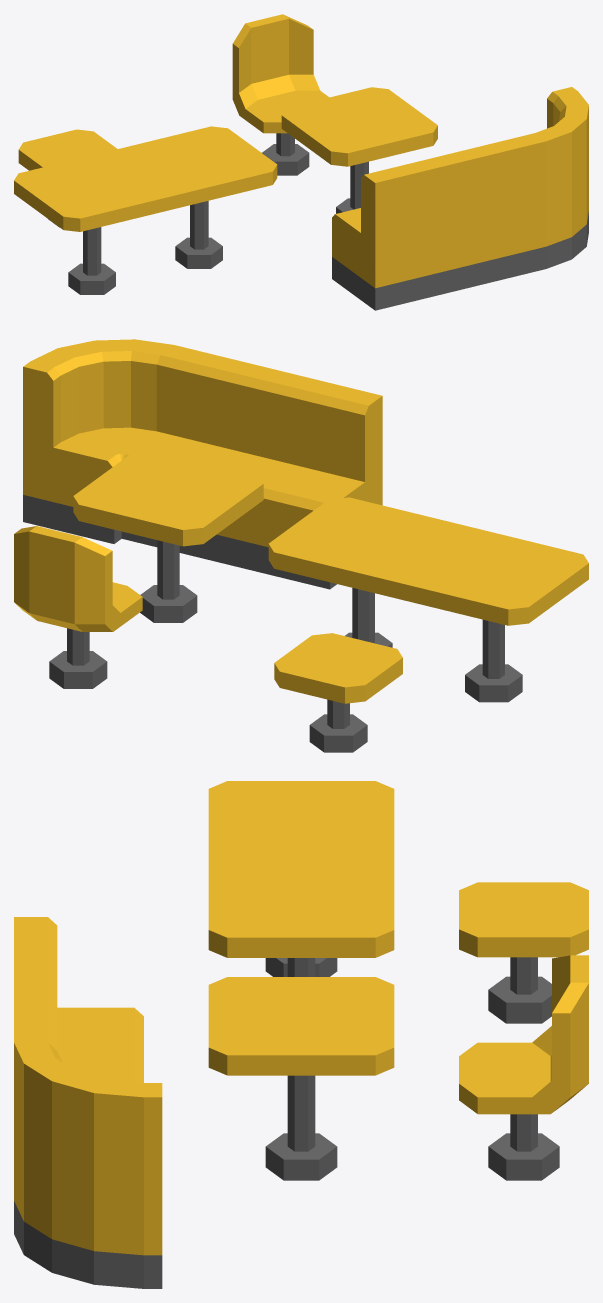
File: Seating02.fbx
3 views of the same model, one above another, from view 1: azimuth 30°, elevation 25°; view 2: azimuth 150°, elevation 25°; view 3: azimuth 270°, elevation 25° (orthographic). The views are drawn at different scales.
Parts seen in each view (by area): view 1: Sofa, Table_Long, Chair, Table, Sofa_Corner, Stool; view 2: Sofa, Table_Long, Sofa_Corner, Table, Chair, Stool; view 3: Table_Long, Sofa_Corner, Table, Chair, Stool, Sofa.
Part boxes in pixels (bbox=[...]): Sofa: bbox=[332, 135, 535, 310]; Table_Long: bbox=[14, 126, 277, 294]; Chair: bbox=[232, 14, 329, 175]; Table: bbox=[281, 87, 437, 213]; Sofa_Corner: bbox=[525, 87, 588, 271]; Stool: bbox=[18, 129, 117, 227]; Sofa: bbox=[134, 348, 382, 589]; Table_Long: bbox=[268, 497, 588, 702]; Sofa_Corner: bbox=[23, 339, 186, 543]; Table: bbox=[73, 449, 263, 622]; Chair: bbox=[14, 526, 142, 688]; Stool: bbox=[274, 633, 402, 752]; Table_Long: bbox=[208, 781, 394, 976]; Sofa_Corner: bbox=[14, 1034, 162, 1288]; Table: bbox=[208, 977, 394, 1180]; Chair: bbox=[459, 955, 588, 1180]; Stool: bbox=[459, 882, 588, 1023]; Sofa: bbox=[14, 917, 143, 1082].
Bounding box in the file's own units: 4.55 × 1.18 × 3.1.
Materials: 1 (1 with a texture image).
